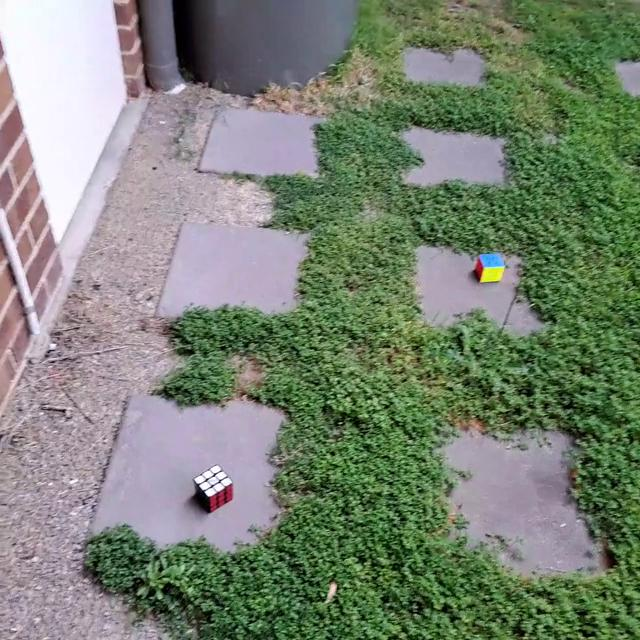rubix_cube: (192, 463, 235, 513), (473, 252, 507, 286)
